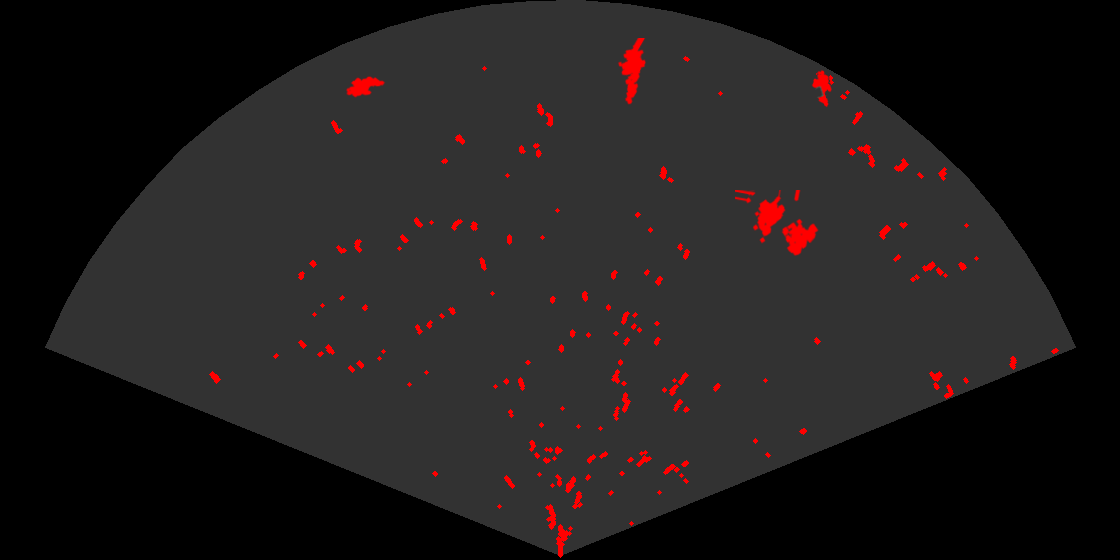AUV: (345, 75, 387, 99), (810, 68, 833, 109)
cage: (735, 190, 820, 257)
frogman: (616, 38, 647, 106)
